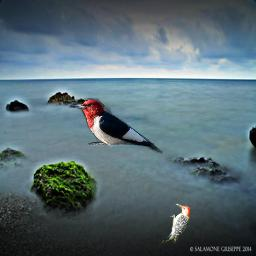Woodpecker: (68, 98, 163, 155), (160, 202, 190, 246)
